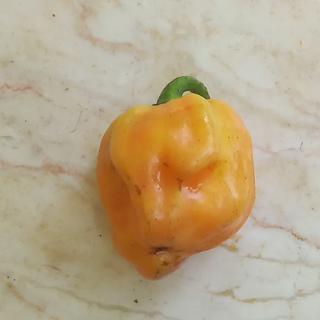Defect: (144, 239, 174, 261)
